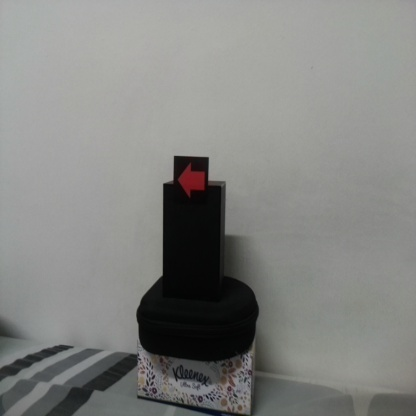id_4: (174, 157, 209, 207)
